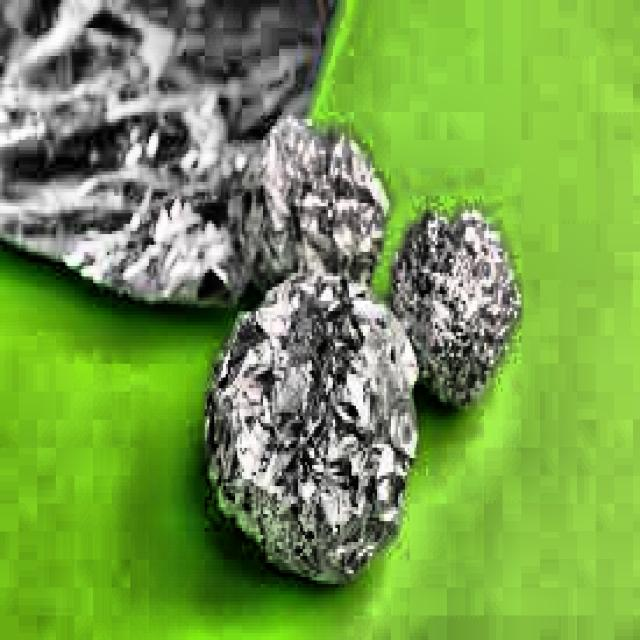Foil: (0, 0, 356, 336), (187, 270, 426, 603), (388, 162, 538, 434), (236, 98, 397, 336)
